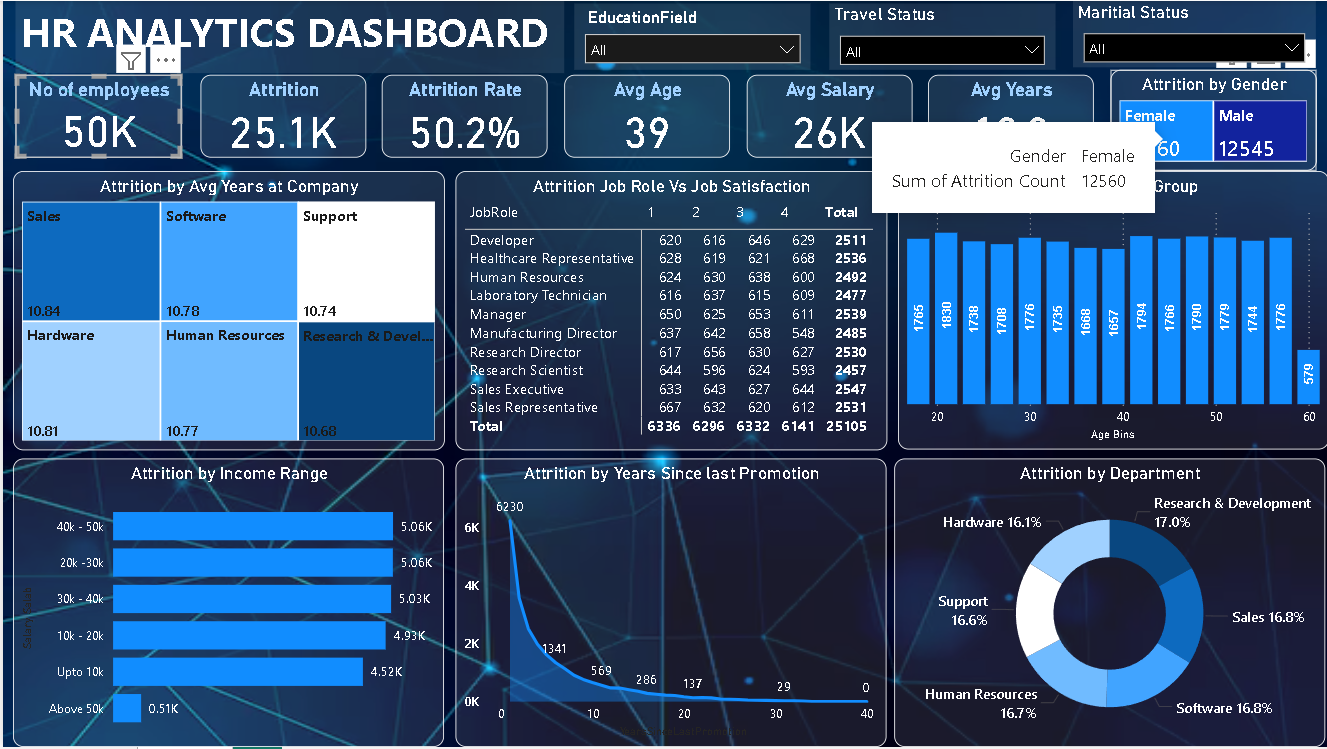

What the dashboard file says about the page in this screenshot:
{"tool":"powerbi","page":{"name":"Page 1","canvas":[1280,720],"ordinal":0},"visuals":[{"type":"card","title":"No of employees","fields":{"Values":["Sum(HR_1 & HR_2 Merge.EmployeeCount)"]},"box":[12.1,71.2,160.5,79.6],"z":0},{"type":"card","title":"Attrition","fields":{"Values":["Sum(HR_1 & HR_2 Merge.Attrition Count)"]},"box":[190.5,71.2,160,80],"z":1000},{"type":"card","title":"Attrition Rate","fields":{"Values":["HR_1 & HR_2 Merge.Attrition Rate"]},"box":[366.1,71.2,160,80],"z":2000},{"type":"card","title":"Avg Salary","fields":{"Values":["Avg(HR_1 & HR_2 Merge.MonthlyIncome)"]},"box":[717.4,71.2,160,80],"z":3000},{"type":"card","title":"Avg Age","fields":{"Values":["Avg(HR_1 & HR_2 Merge.Age)"]},"box":[541.8,71.2,160,80],"z":4000},{"type":"card","title":"Avg Years","fields":{"Values":["Avg(HR_1 & HR_2 Merge.YearsAtCompany)"]},"box":[893.1,71.2,160,80],"z":5000},{"type":"donutChart","title":"Attrition by Department","fields":{"Category":["HR_1 & HR_2 Merge.Department"],"Y":["Sum(HR_1 & HR_2 Merge.Attrition Count)"]},"box":[860.2,441.6,416.2,278.7],"z":6000},{"type":"clusteredBarChart","title":"Attrition by Income Range","fields":{"Category":["HR_1 & HR_2 Merge.Salary Salab"],"Y":["Sum(HR_1 & HR_2 Merge.Attrition Count)"]},"box":[9.7,441.6,416.2,278.7],"z":7000},{"type":"treemap","title":"Attrition by Avg Years at Company","fields":{"Group":["HR_1 & HR_2 Merge.Department"],"Values":["Avg(HR_1 & HR_2 Merge.YearsAtCompany)"]},"box":[9.3,164.6,416.6,269.6],"z":8000},{"type":"pivotTable","title":"Attrition Job Role Vs Job Satisfaction","fields":{"Values":["Sum(HR_1 & HR_2 Merge.Attrition Count)"],"Rows":["HR_1 & HR_2 Merge.JobRole"],"Columns":["HR_1 & HR_2 Merge.JobSatisfaction"]},"box":[436.5,164.6,416.6,269.6],"z":9000},{"type":"areaChart","title":"Attrition  by Years Since last Promotion","fields":{"Category":["HR_1 & HR_2 Merge.YearsSinceLastPromotion"],"Y":["Sum(HR_1 & HR_2 Merge.Attrition Count)"]},"box":[436.7,441.6,416.2,278.7],"z":10000},{"type":"treemap","title":"Attrition  by Gender","fields":{"Group":["HR_1 & HR_2 Merge.Gender"],"Values":["Sum(HR_1 & HR_2 Merge.Attrition Count)"]},"box":[1068.9,66.4,199.1,97.7],"z":11000},{"type":"textbox","box":[12.1,0,529.6,70],"z":12000},{"type":"clusteredColumnChart","title":"Attrition by Age Group","fields":{"Category":["HR_1 & HR_2 Merge.Age Bin"],"Y":["Sum(HR_1 & HR_2 Merge.Attrition Count)"]},"box":[863.8,164.1,416.2,269],"z":13000},{"type":"slicer","fields":{"Values":["HR_1 & HR_2 Merge.EducationField"]},"box":[551.3,2.4,228,63.9],"z":14000},{"type":"slicer","title":"Travel Status","fields":{"Values":["HR_1 & HR_2 Merge.BusinessTravel"]},"box":[797.5,2.4,218.4,63.9],"z":15000},{"type":"slicer","title":"Maritial Status","fields":{"Values":["HR_1 & HR_2 Merge.MaritalStatus"]},"box":[1032.7,0,234,63.9],"z":16000}]}

Visuals, with their boxes in screenshot pixels (x1, y1, x2, y2), scaled from the page's 1280x720 canvas onto the 1327x749 screenshot:
"No of employees" card: 13:74:179:157
"Attrition" card: 197:74:363:157
"Attrition Rate" card: 380:74:545:157
"Avg Salary" card: 744:74:910:157
"Avg Age" card: 562:74:728:157
"Avg Years" card: 926:74:1092:157
"Attrition by Department" donutChart: 892:459:1323:748
"Attrition by Income Range" clusteredBarChart: 10:459:442:748
"Attrition by Avg Years at Company" treemap: 10:171:442:452
"Attrition Job Role Vs Job Satisfaction" pivotTable: 453:171:884:452
"Attrition  by Years Since last Promotion" areaChart: 453:459:884:748
"Attrition  by Gender" treemap: 1108:69:1315:171
textbox: 13:0:562:73
"Attrition by Age Group" clusteredColumnChart: 896:171:1326:451
slicer - HR_1 & HR_2 Merge.EducationField: 572:2:808:69
"Travel Status" slicer: 827:2:1053:69
"Maritial Status" slicer: 1071:0:1313:66
